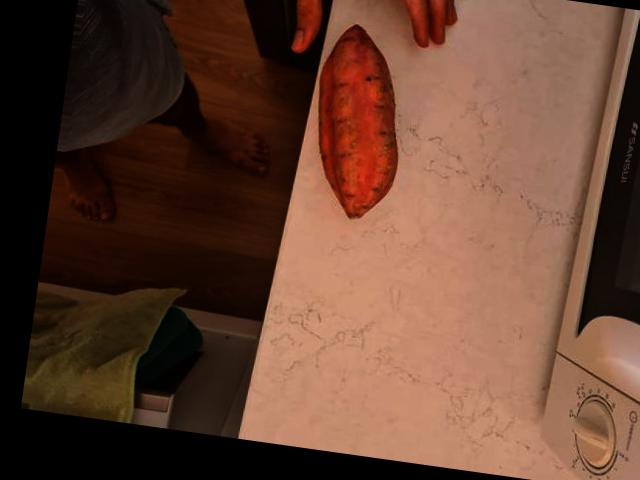sweet_potato: (295, 24, 415, 224)
